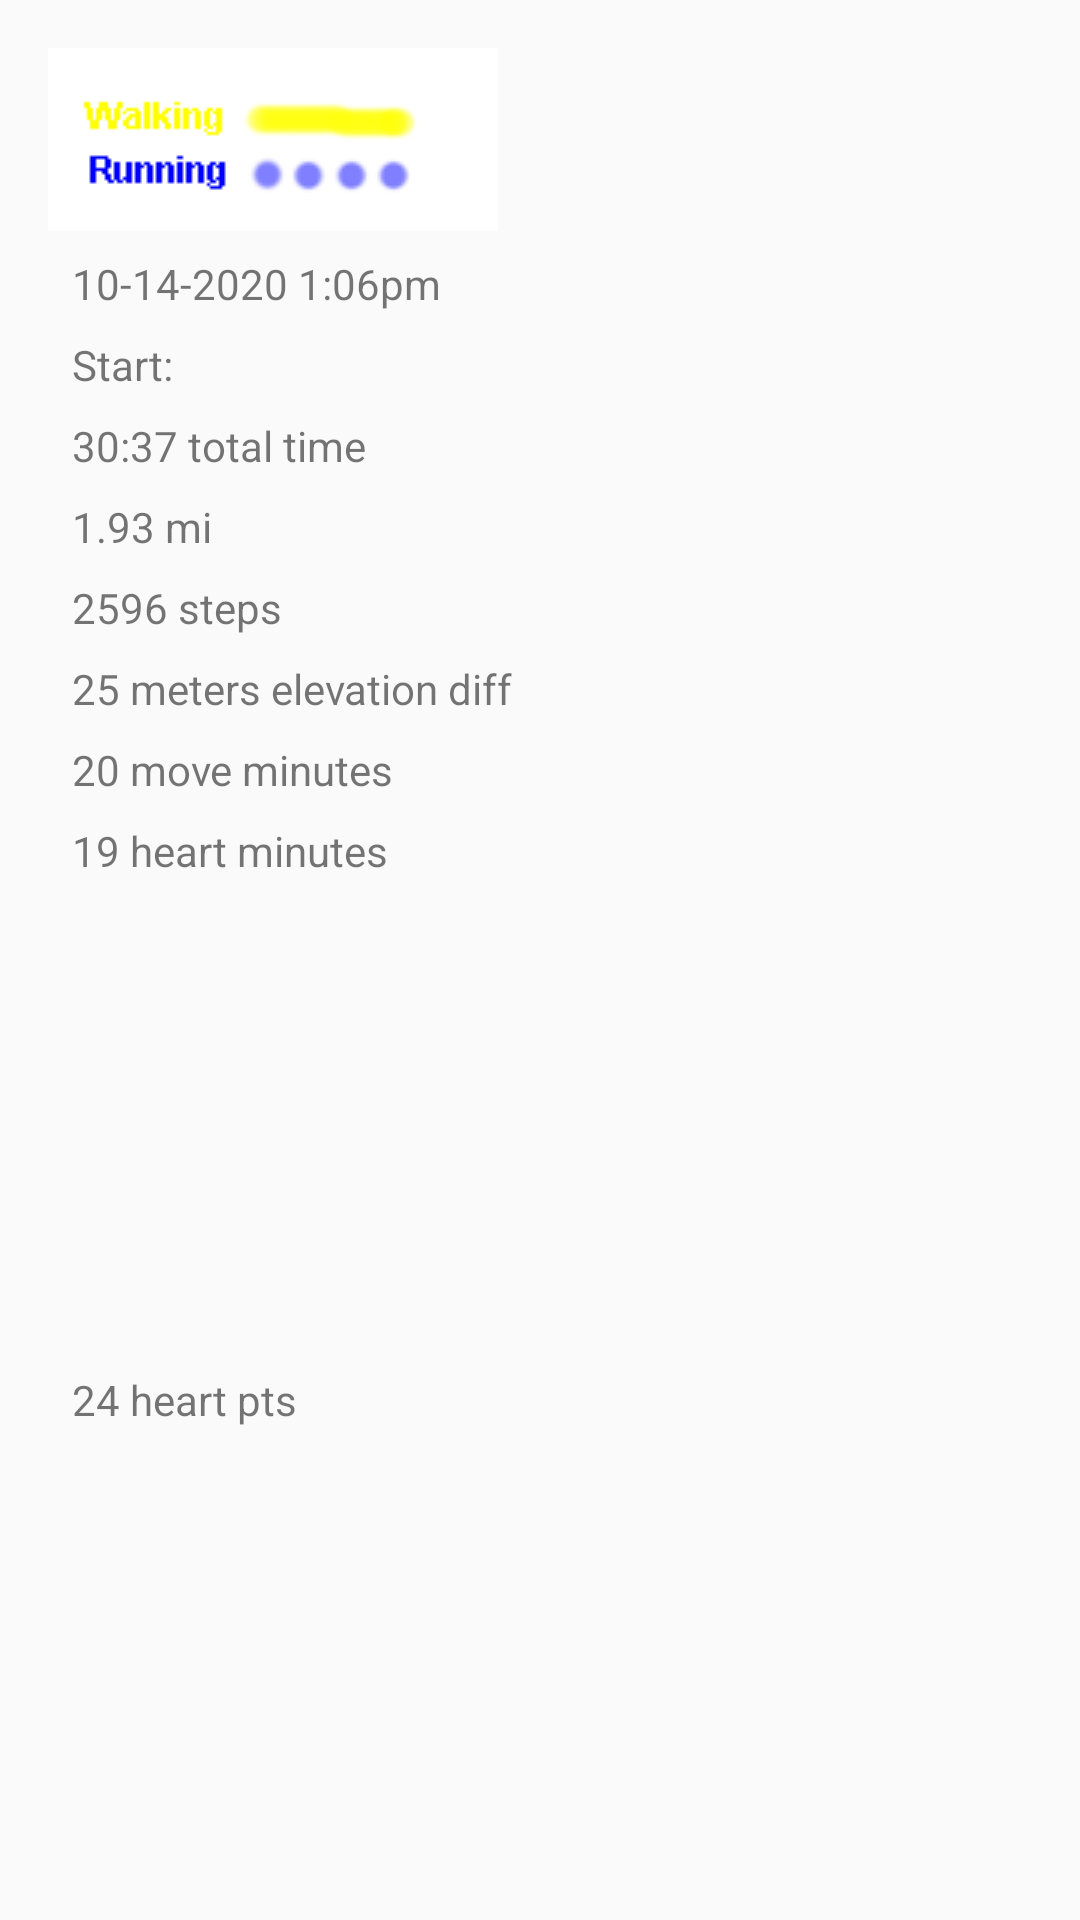

Icon bounding boxes for this 1080w x 1920h phone screenshot, format bbox=[x1, y1, x2, y2]:
map legend: bbox=[83, 101, 415, 190]
